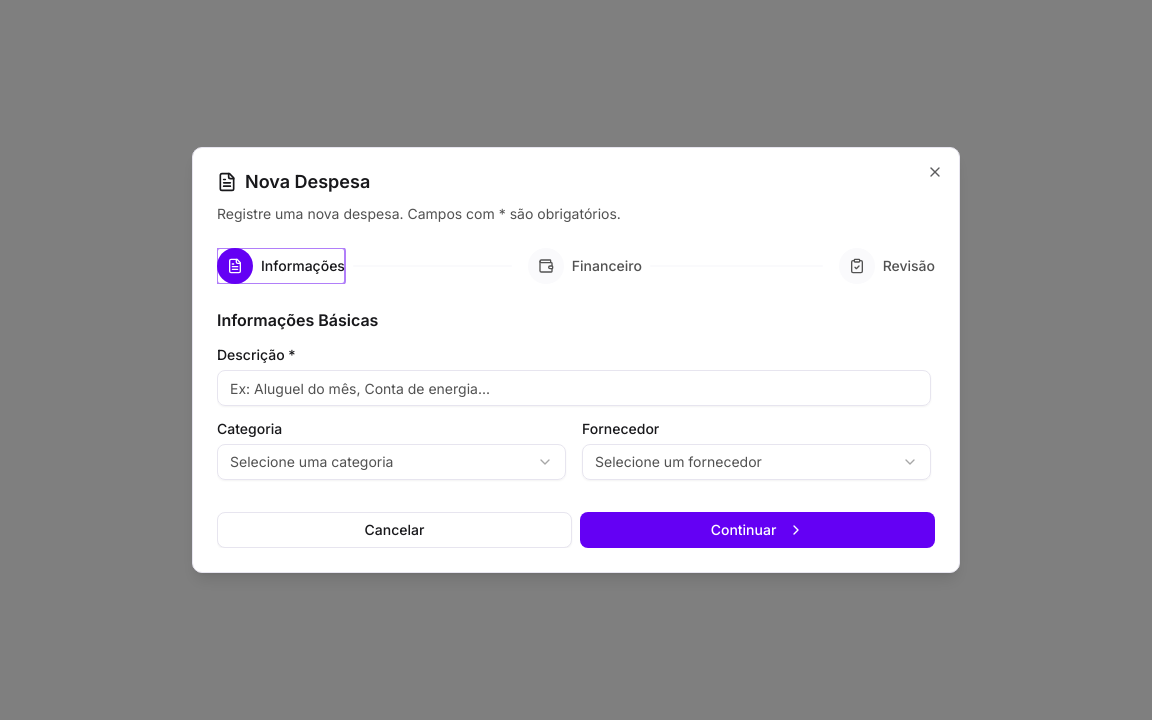
ExpenseFormDialog - wizard de passos › não avança sem descrição obrigatória
Click the button "Continuar" at [758, 530], box [580,512,935,548]
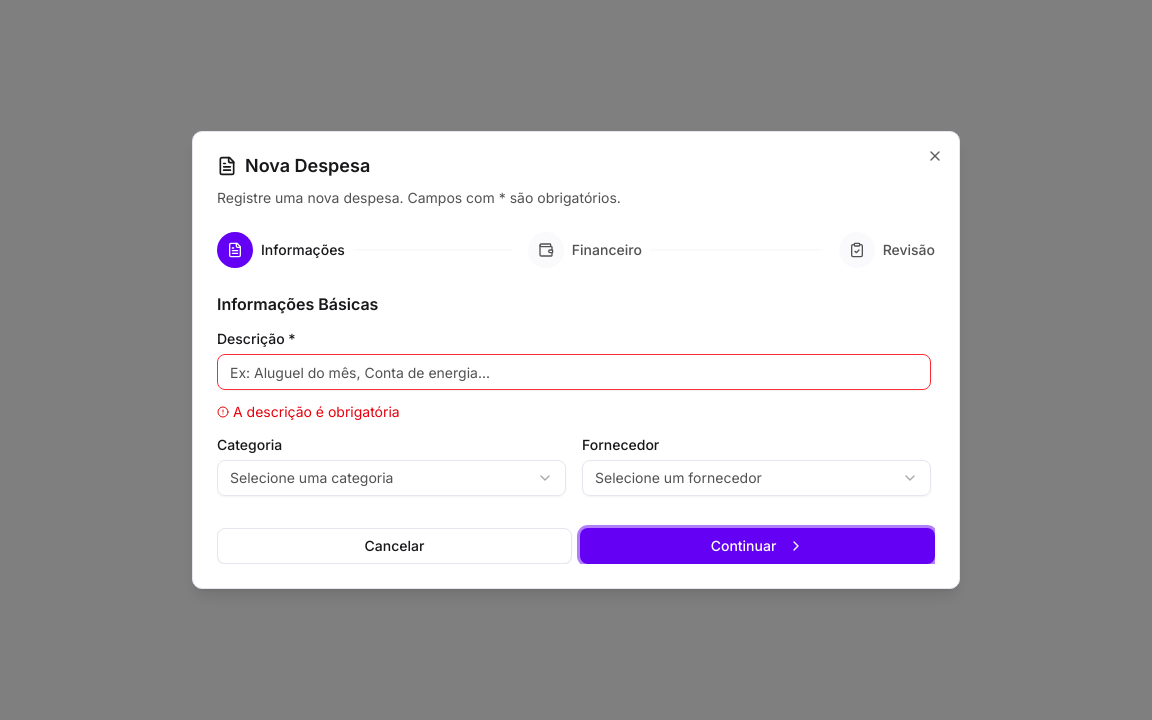
Check: the text "A descrição é obrigatória" is shown, box [217,403,400,420]
